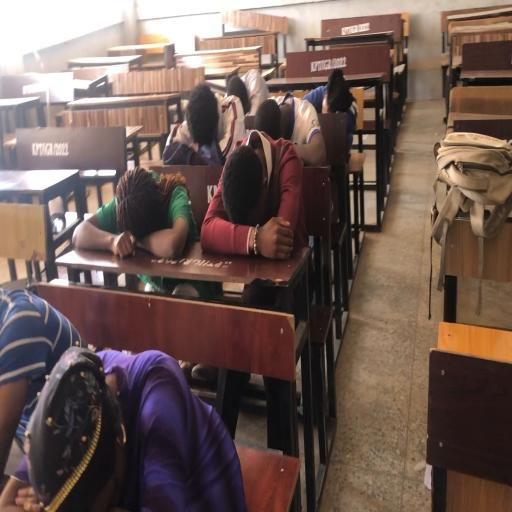Sleeping: (3, 242, 313, 504), (1, 324, 247, 506), (200, 127, 305, 261), (68, 162, 200, 265), (162, 83, 224, 168)
